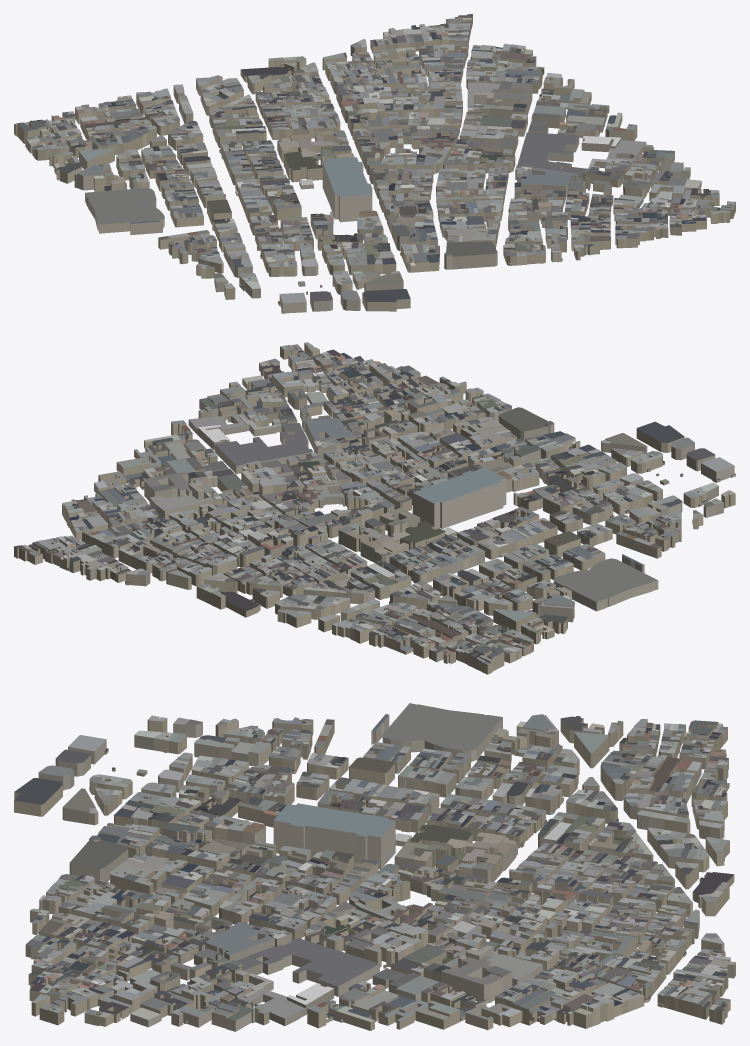
3 renders of one model, top to bottom at view 1: azimuth 30°, elevation 25°; view 2: azimuth 150°, elevation 25°; view 3: azimuth 270°, elevation 25°, orthographic. The views are drawn at different scales.
Visible parts, largest first — view 1: tuile; view 2: tuile; view 3: tuile.
Part boxes in pixels (<box>): tuile: <box>14,14,735,313</box>; tuile: <box>14,342,735,674</box>; tuile: <box>14,703,735,1031</box>.
Bounding box in the file's own units: 1090 × 62.94 × 1047.
